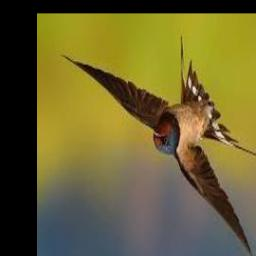Swallow: (62, 37, 256, 256)
